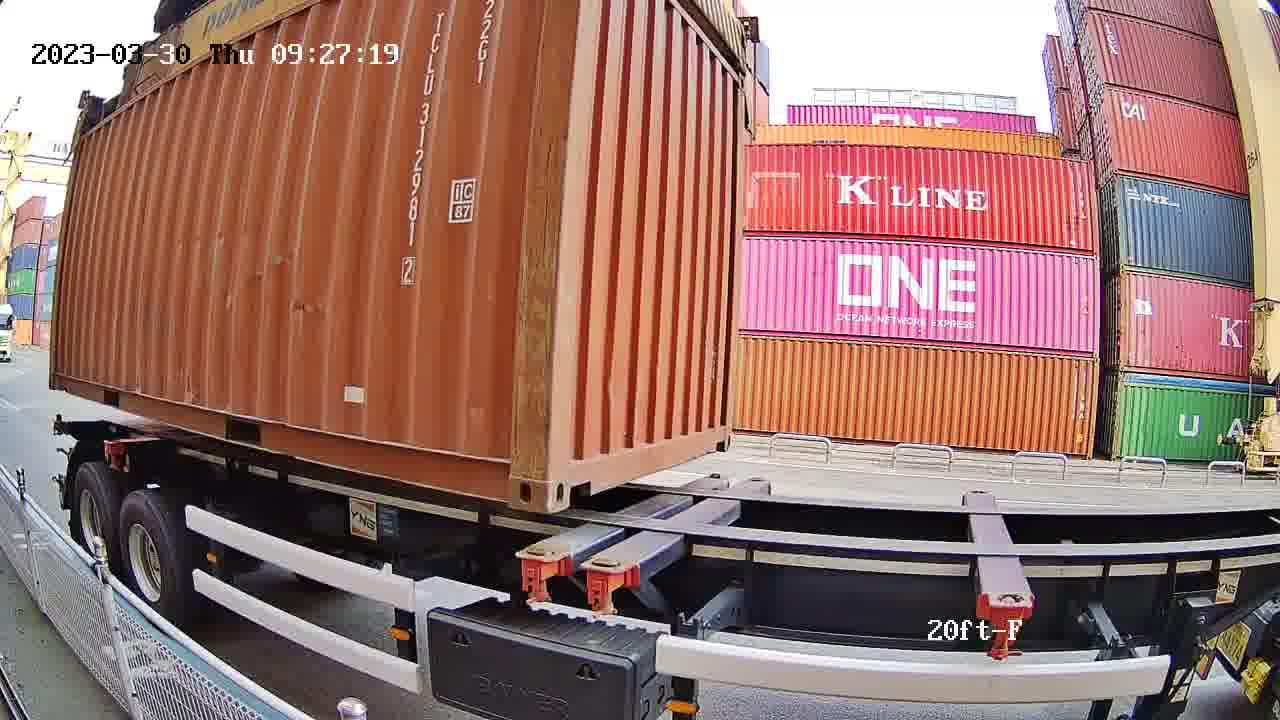Chassis: (579, 479, 767, 586), (523, 474, 728, 562)
Cone: (510, 545, 565, 607), (578, 558, 628, 618)
Hole_L: (547, 437, 600, 516)
Hole_R: (474, 440, 548, 514), (709, 412, 734, 453)
Tire: (119, 495, 178, 623), (69, 466, 114, 570)
